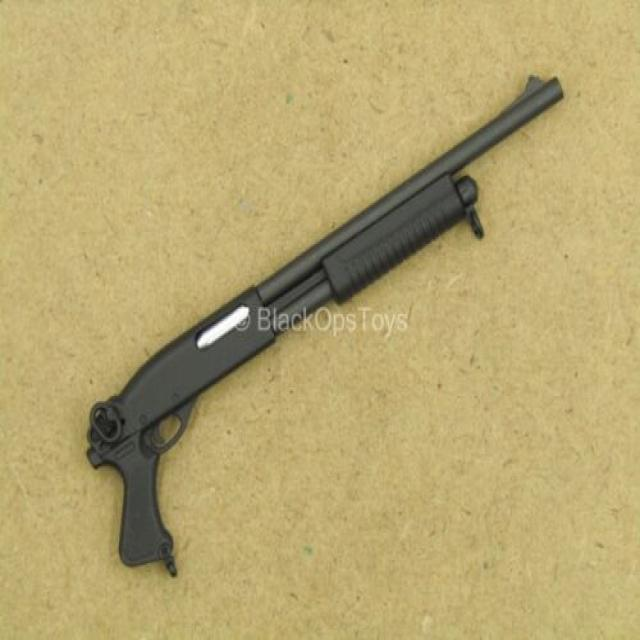ShotGun: (87, 77, 566, 577)
